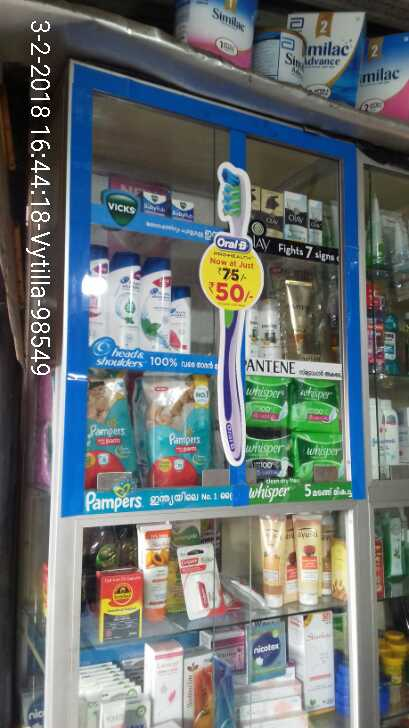vicks: (141, 192, 195, 221)
